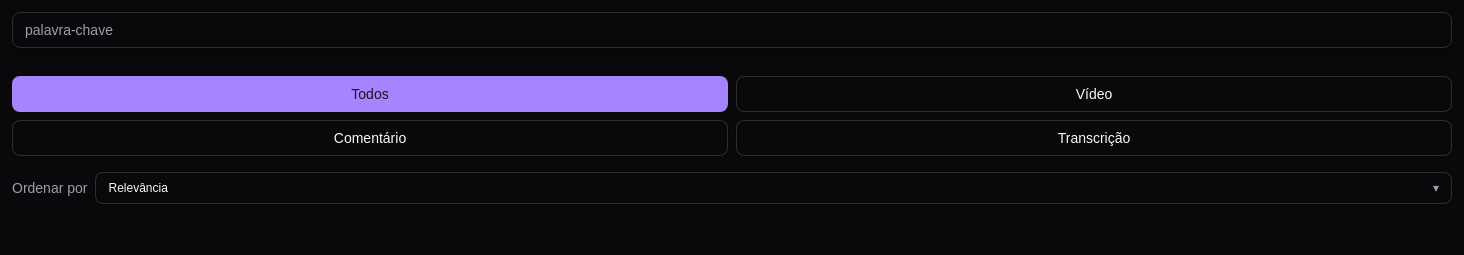
Test case: SearchView › mostra o erro da API como alerta
In the search field named "Buscar": [732, 30] box [12,12,1452,48], type "gato"
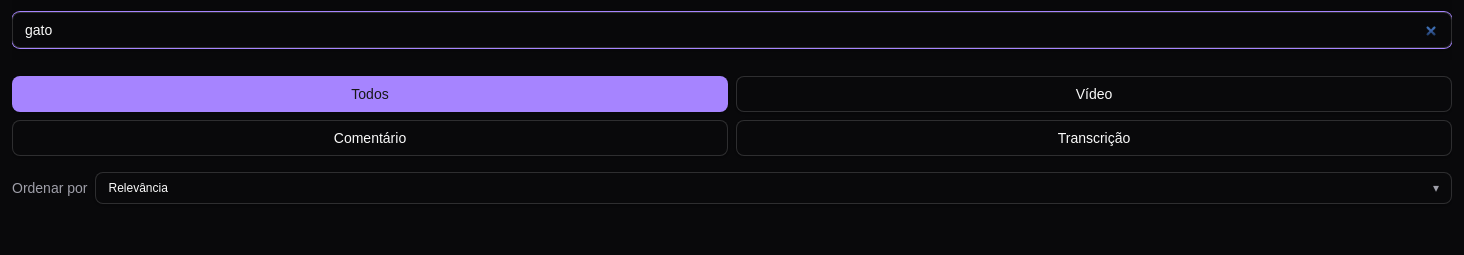
Press Enter in the search field named "Buscar", box [12,12,1452,48]
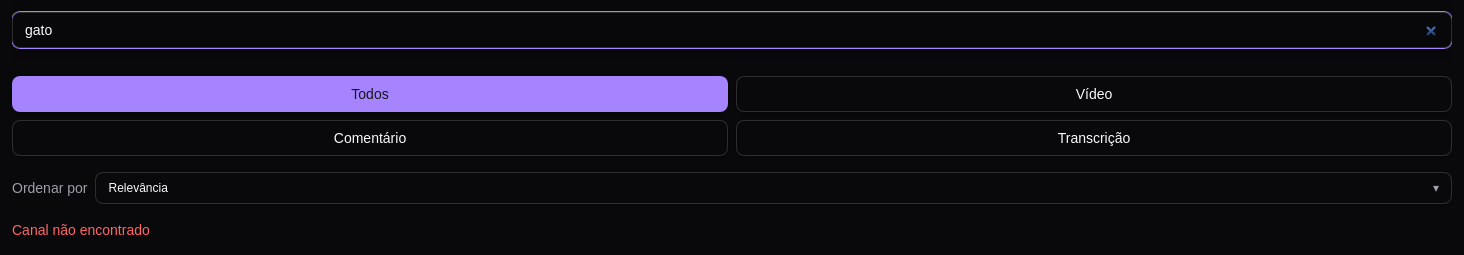
Check: the message reads "Canal não encontrado", box [12,222,150,238]
